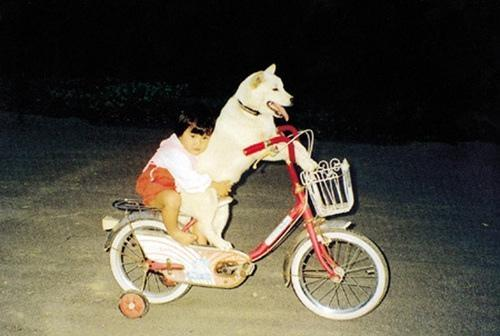bicycle: (102, 126, 389, 323)
